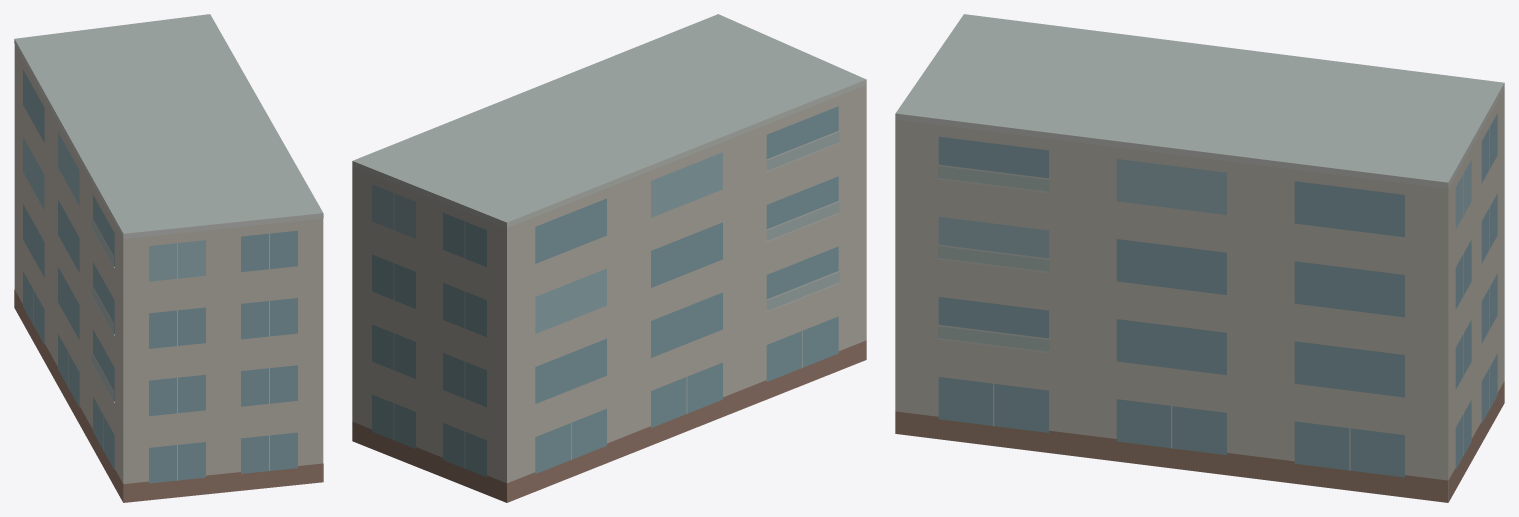
Rendered from survey-upis-32823117.glb.
3 views of the same model, side by side, from view 1: azimuth 30°, elevation 25°; view 2: azimuth 150°, elevation 25°; view 3: azimuth 270°, elevation 25° (orthographic). The views are drawn at different scales.
Visible parts, largest first — view 1: survey-upis-32823117.tmp; view 2: survey-upis-32823117.tmp; view 3: survey-upis-32823117.tmp.
Boxes of the visible parts, x1,y1,x2,y2 form: survey-upis-32823117.tmp: (14, 14, 323, 502); survey-upis-32823117.tmp: (352, 14, 866, 502); survey-upis-32823117.tmp: (895, 14, 1504, 502).
Bounding box in the file's own units: 14.23 × 12.6 × 21.73.
